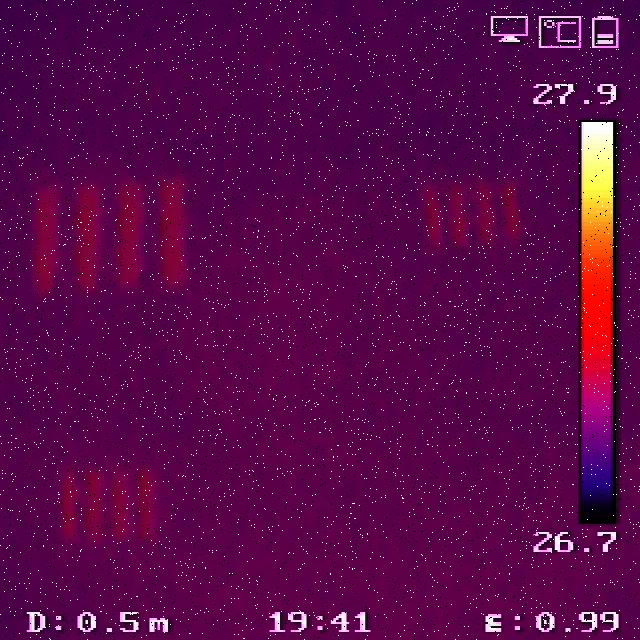Distinguishable 4-bar target: (27, 177, 197, 290)
threshold 4-bar target: (61, 469, 160, 541), (427, 181, 521, 250)
